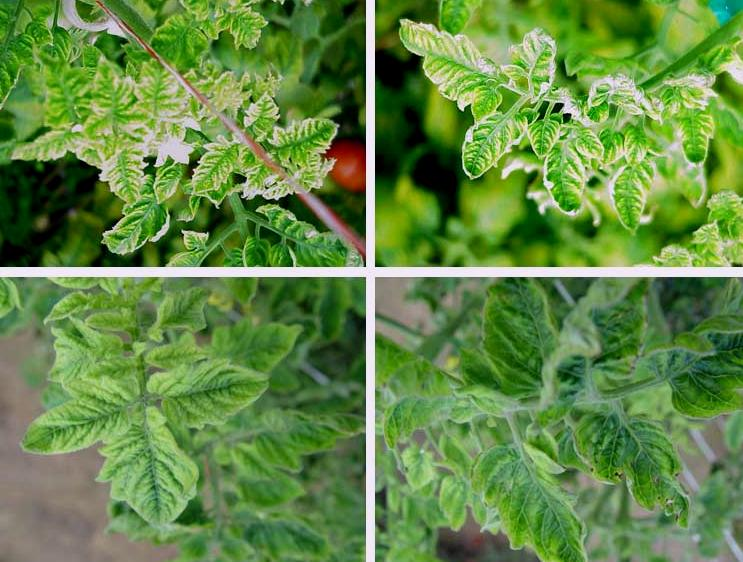Tomato leaf yellow virus: (618, 300, 743, 423), (567, 399, 694, 516), (106, 402, 204, 532), (480, 448, 590, 562), (459, 283, 560, 406), (393, 17, 523, 112), (13, 390, 133, 461), (158, 373, 289, 429), (489, 4, 563, 103), (454, 98, 531, 182), (543, 121, 605, 221), (84, 61, 142, 132), (0, 19, 37, 127), (611, 156, 653, 246), (271, 110, 340, 163), (157, 15, 212, 75), (187, 140, 239, 195), (98, 144, 143, 202), (222, 0, 268, 56), (676, 98, 710, 173), (523, 113, 571, 157), (153, 156, 184, 209), (620, 124, 652, 171)
